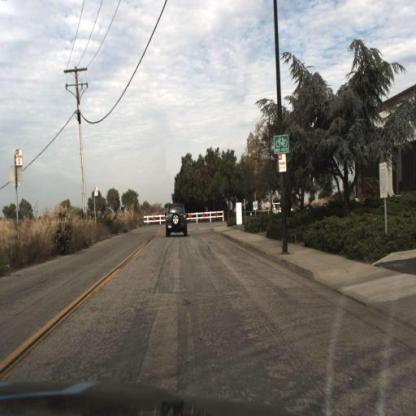car: (169, 204, 192, 235)
